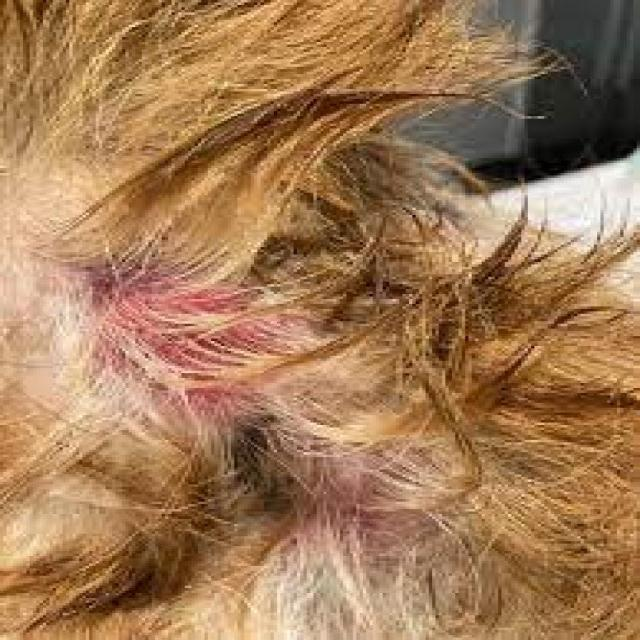allergic dermatitis: (84, 266, 292, 434)
